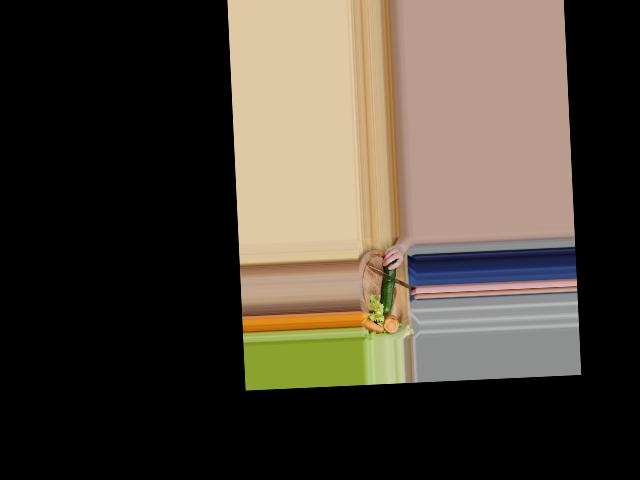cucumber: (379, 259, 398, 314)
